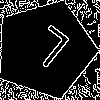L: (20, 24, 73, 78)
